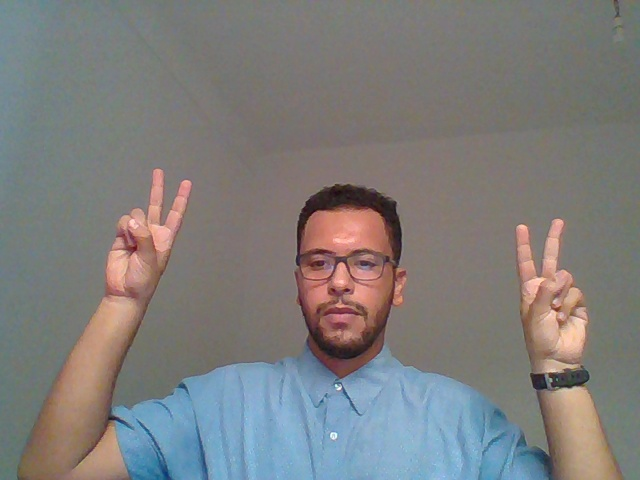vectory: (478, 197, 626, 479), (82, 159, 206, 411)
